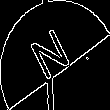N_SE: (30, 23, 80, 87)
